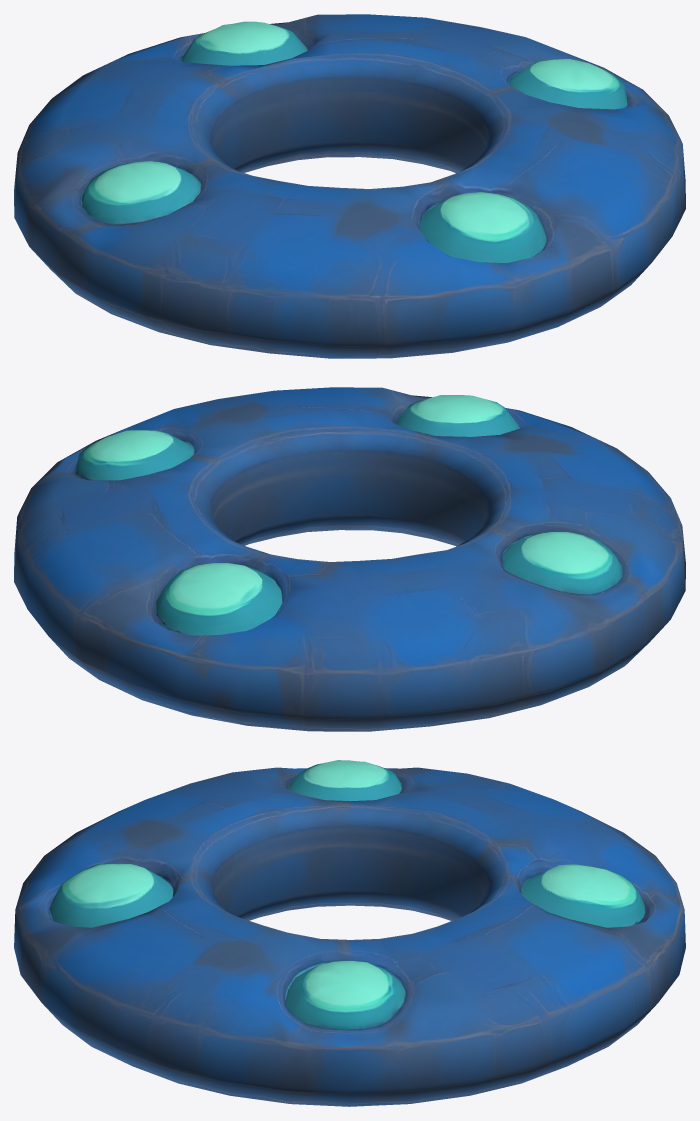
File: ufo-beam-emitter.glb
The picture shows the model from 3 angles, top to bottom: view 1: azimuth 30°, elevation 25°; view 2: azimuth 150°, elevation 25°; view 3: azimuth 270°, elevation 25°; orthographic projection.
Parts seen in each view (by area): view 1: tripo_node_497b830f-d059-4fb7-a400-1bc042618824; view 2: tripo_node_497b830f-d059-4fb7-a400-1bc042618824; view 3: tripo_node_497b830f-d059-4fb7-a400-1bc042618824.
Part boxes in pixels (<box>): tripo_node_497b830f-d059-4fb7-a400-1bc042618824: <box>14,14,685,358</box>; tripo_node_497b830f-d059-4fb7-a400-1bc042618824: <box>14,387,685,731</box>; tripo_node_497b830f-d059-4fb7-a400-1bc042618824: <box>14,760,685,1106</box>.
Size of the model in its own units: 0.65 by 0.1132 by 0.65.
1 material, 1 textured.
